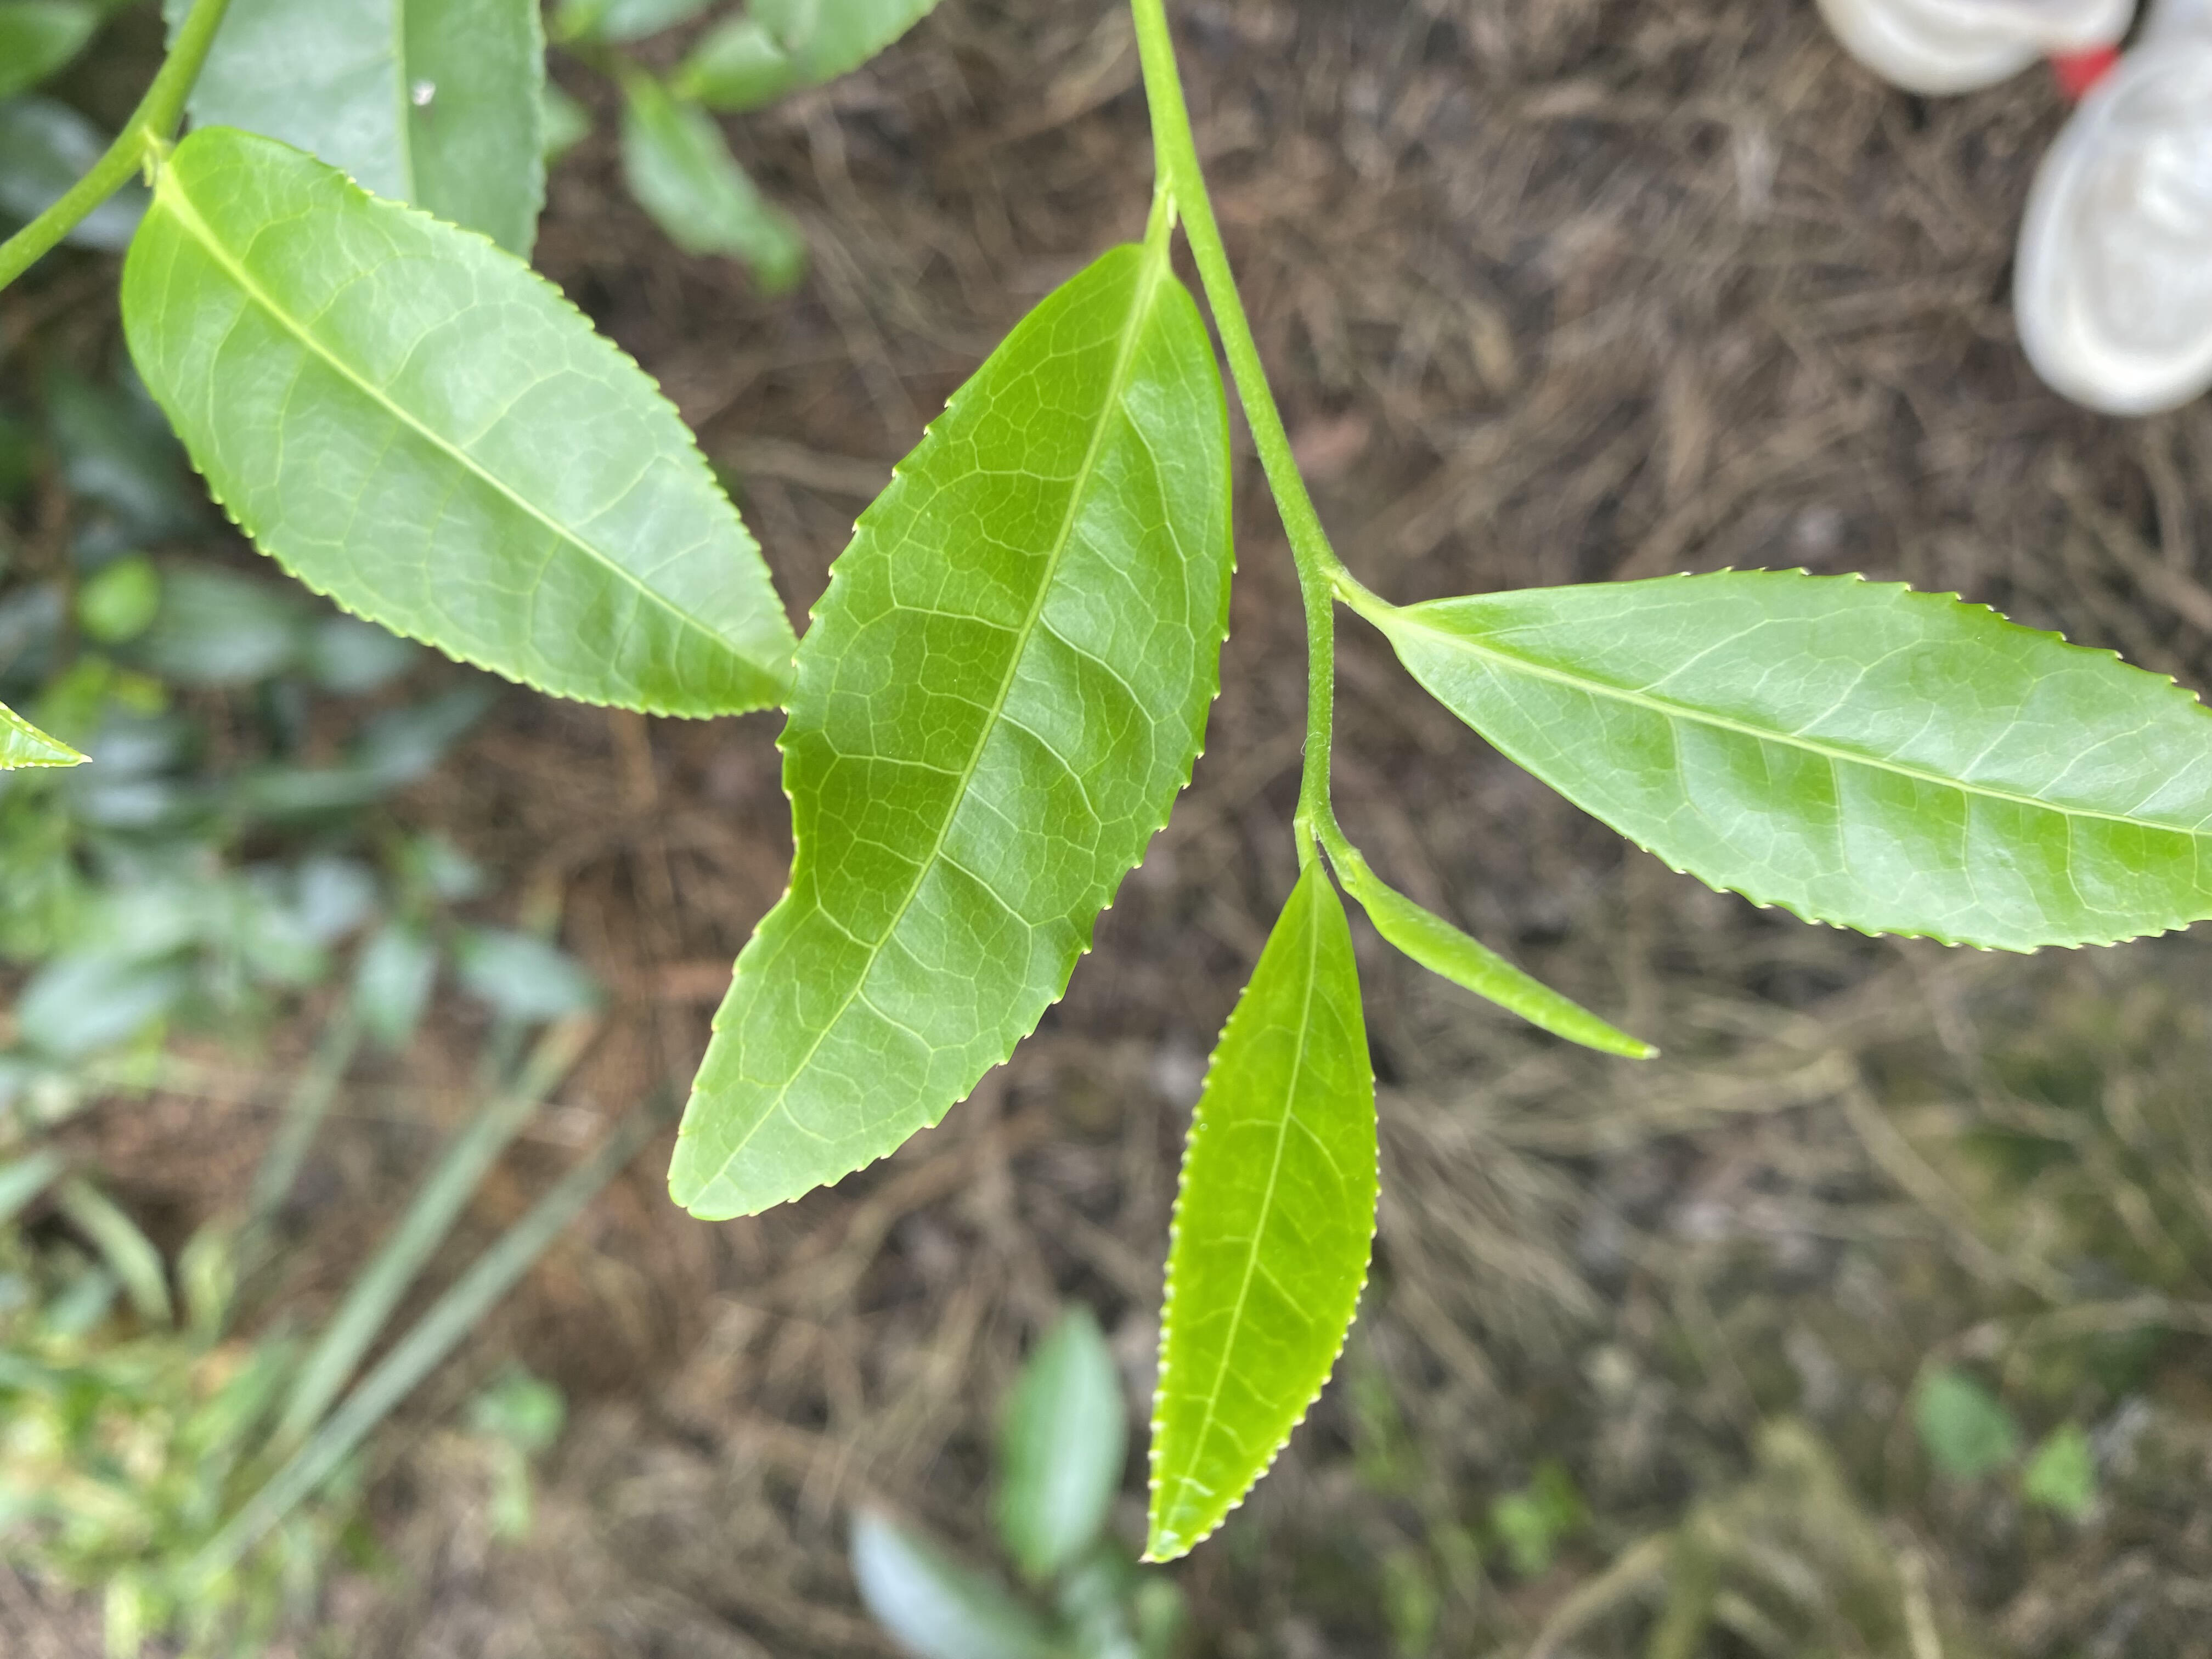healthy: (667, 235, 1240, 1220), (115, 129, 796, 725), (1395, 568, 2207, 958), (1141, 863, 1381, 1565)
